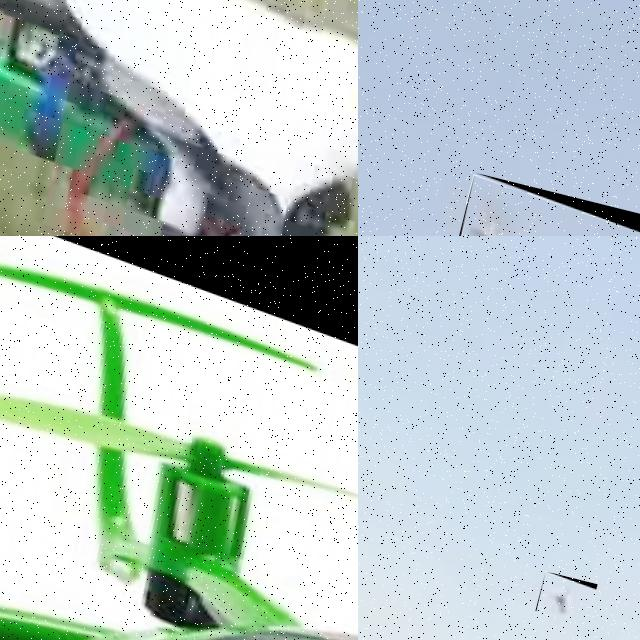drone: (0, 236, 358, 640), (0, 0, 358, 236), (430, 172, 640, 236), (535, 570, 597, 624)
